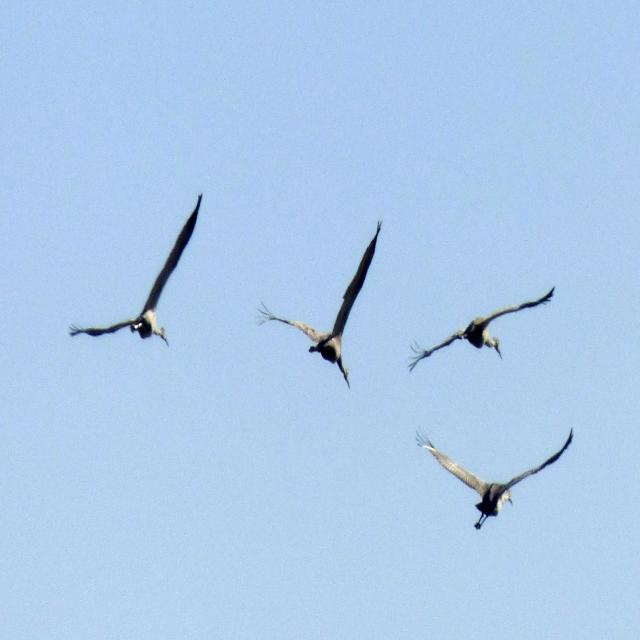bird: (248, 219, 385, 392), (70, 198, 201, 350), (420, 429, 575, 529), (398, 282, 561, 371)
